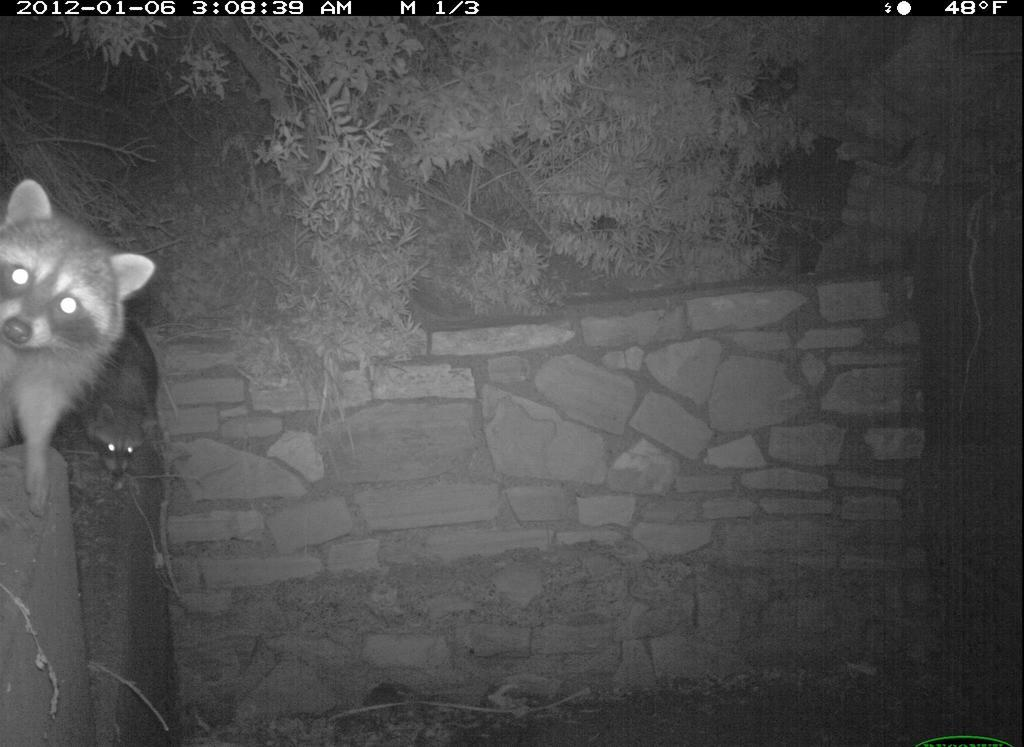raccoon: (2, 179, 165, 525), (68, 314, 162, 495)
